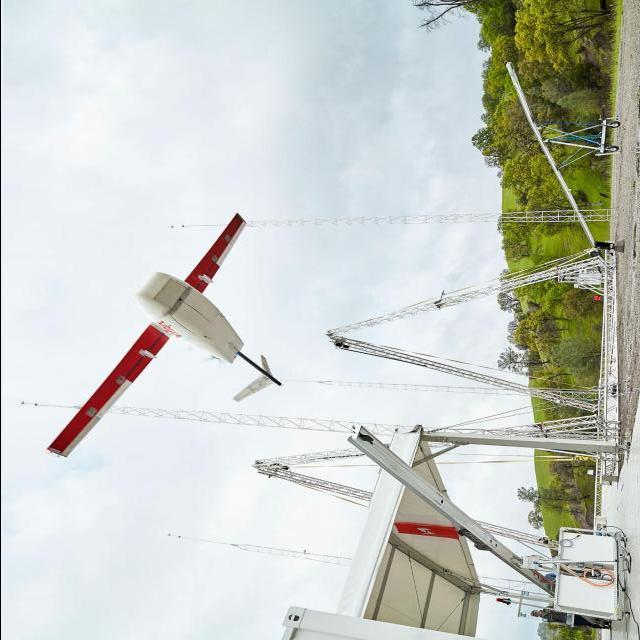UAV: (84, 250, 287, 484)
